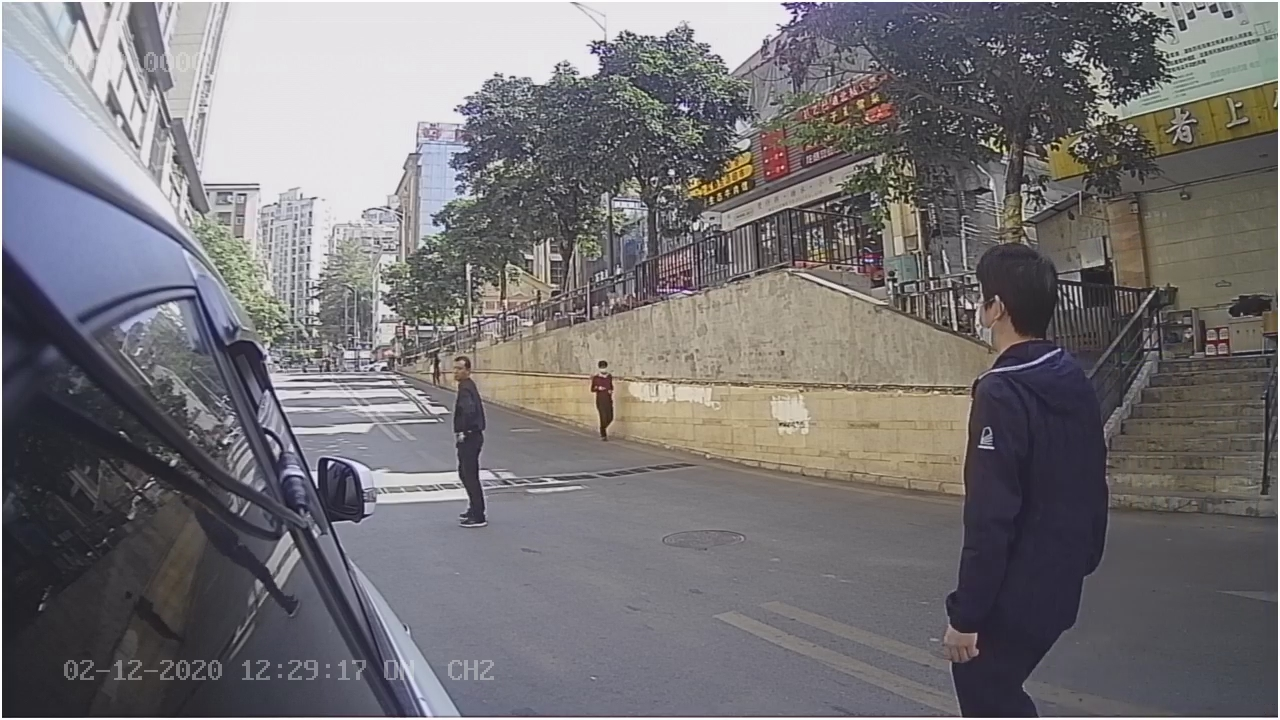person: (929, 240, 1117, 666), (432, 347, 513, 543)
